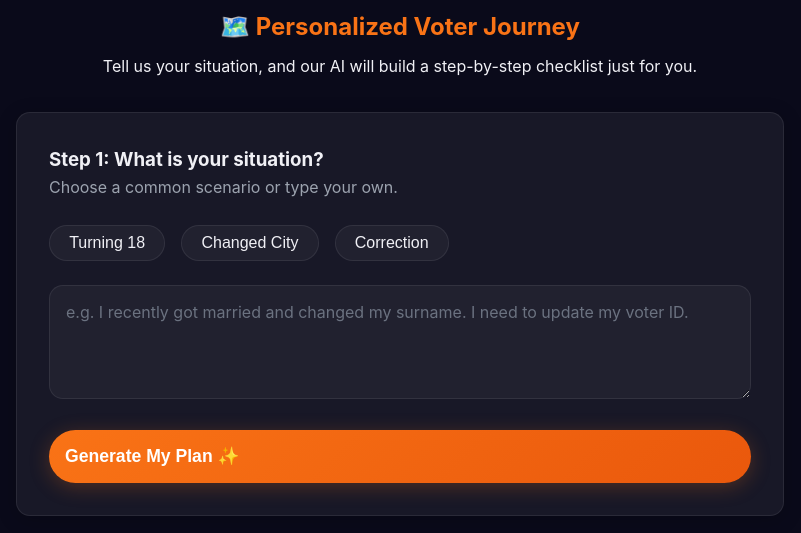
Test: VoterJourney Component › shows quick options that fill the textarea
This screenshot has width=801, height=533.
Click the button "Turning 18".
click(107, 242)  # box [49, 224, 165, 260]
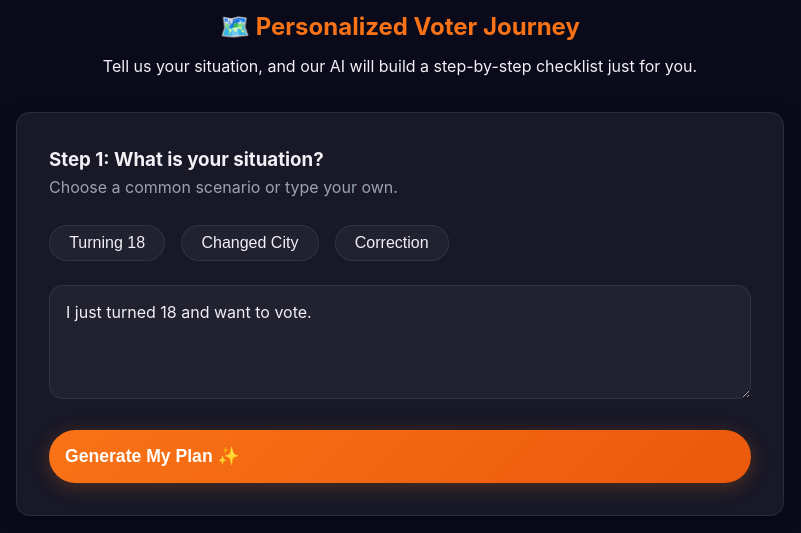
Expected: the button "Generate My Plan ✨" is enabled, [49, 430, 751, 483]
Now the text box with placeholder "e.g. I recently got married" holds "I just turned 18 and want to vote.", box [49, 284, 751, 398]
